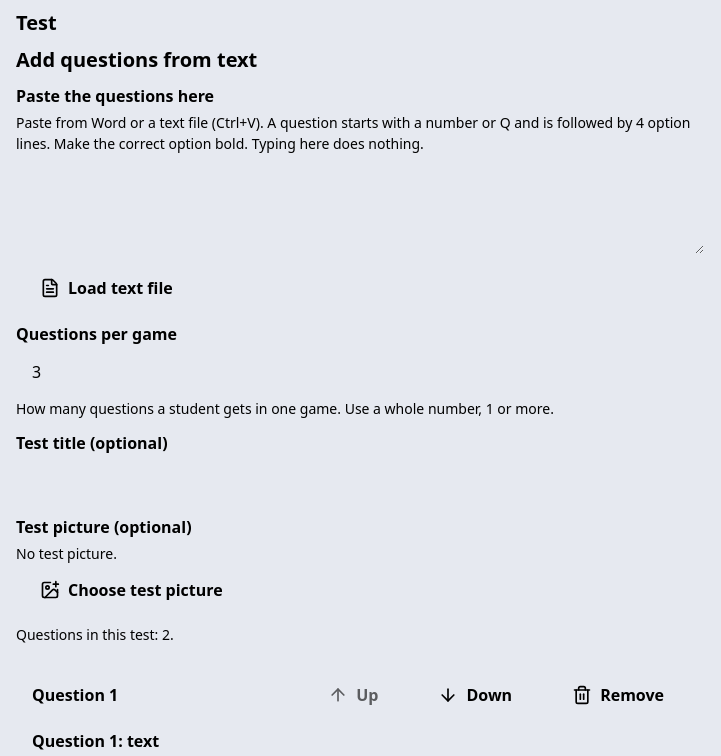
it: TestEditor › takes a whole number of questions per game and refuses a bad one
Replace the text in the field labelled "Questions per game" with "10" at [360, 372], box 16,350 -> 704,394
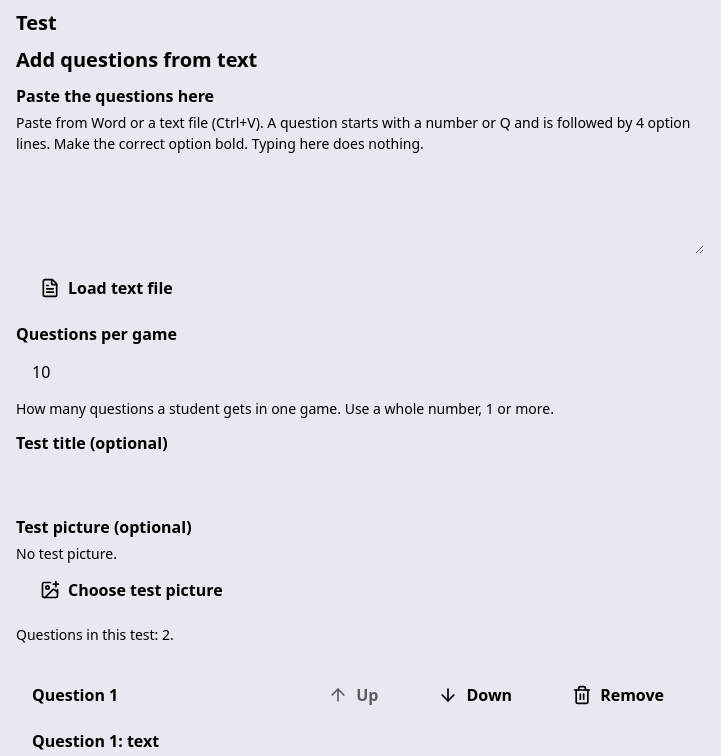
Replace the text in the field labelled "Questions per game" with "0" at [360, 372], box 16,350 -> 704,394
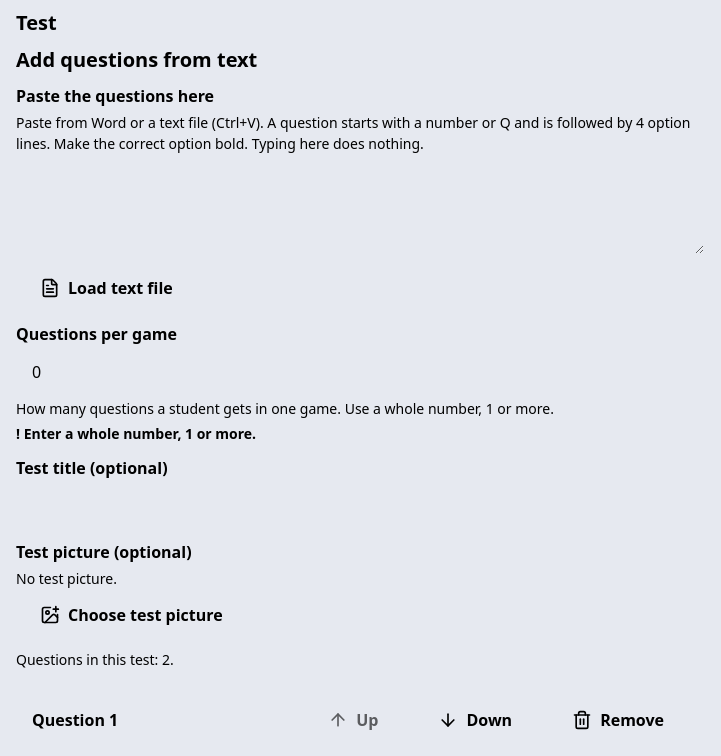
Expected: the text "Enter a whole number, 1 or more." is shown, 24,424 -> 256,443
Replace the text in the field labelled "Questions per game" with "2.5" at [360, 372], box 16,350 -> 704,394
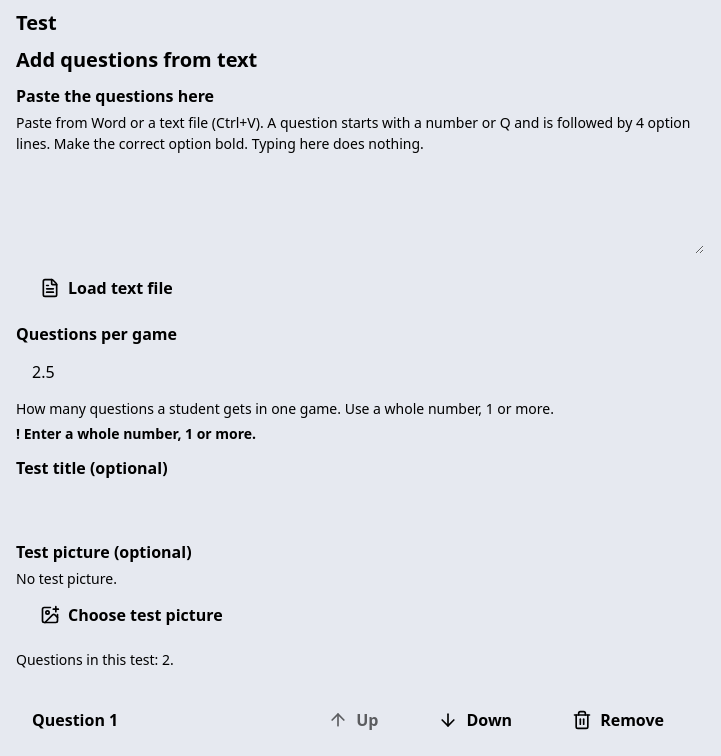
Replace the text in the field labelled "Questions per game" with "4" at [360, 372], box 16,350 -> 704,394
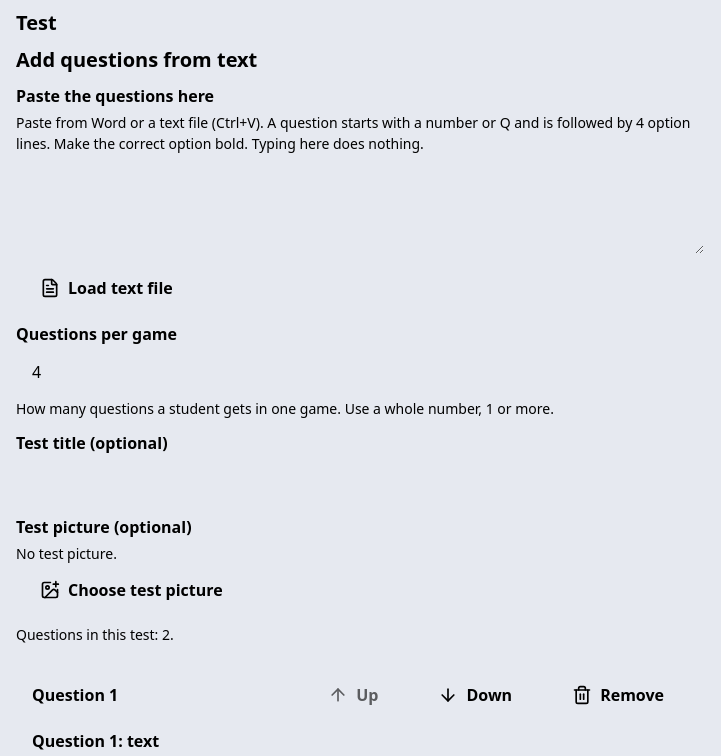
Expected: the text "Enter a whole number, 1 or more." is gone
